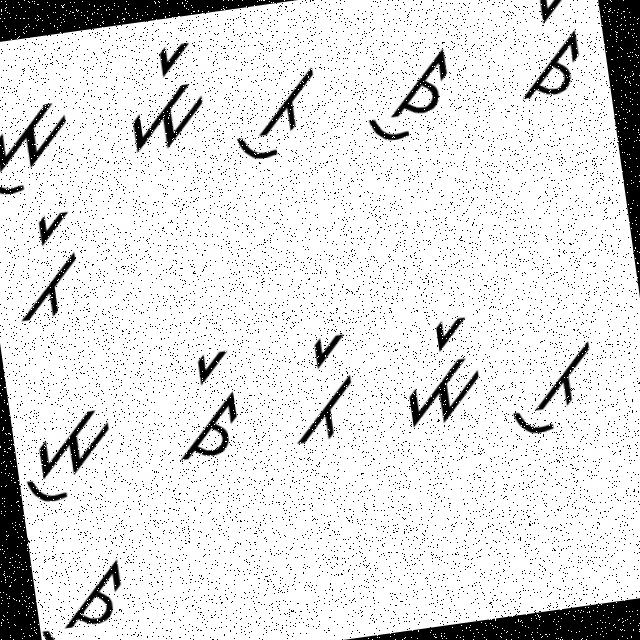bar: (270, 324, 366, 450), (0, 205, 94, 330)
baw: (494, 311, 608, 443), (222, 45, 331, 171)
car: (164, 345, 254, 471), (502, 0, 593, 104)
caw: (349, 36, 468, 148), (31, 547, 138, 639)
mar: (102, 34, 218, 160), (391, 308, 488, 435)
maw: (15, 386, 126, 513), (0, 90, 88, 202)
